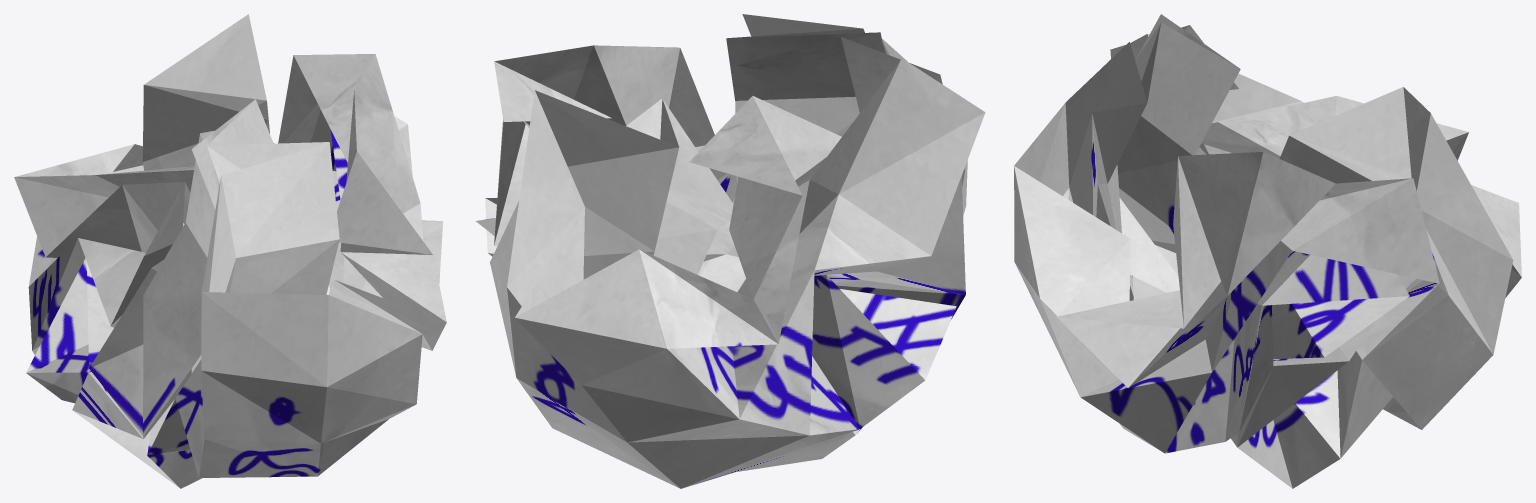
The model's file is crumpled_paper01.fbx.
3 views of the same model, side by side, from view 1: azimuth 30°, elevation 25°; view 2: azimuth 150°, elevation 25°; view 3: azimuth 270°, elevation 25° (orthographic). The views are drawn at different scales.
Parts seen in each view (by area): view 1: Rovina; view 2: Rovina; view 3: Rovina.
Part boxes in pixels (x1,y1,x2,y2): Rovina: (14, 14, 446, 488); Rovina: (476, 14, 985, 488); Rovina: (1014, 14, 1521, 488).
Size of the model in its own units: 189 by 164 by 194.
Materials: 1 (1 with a texture image).
